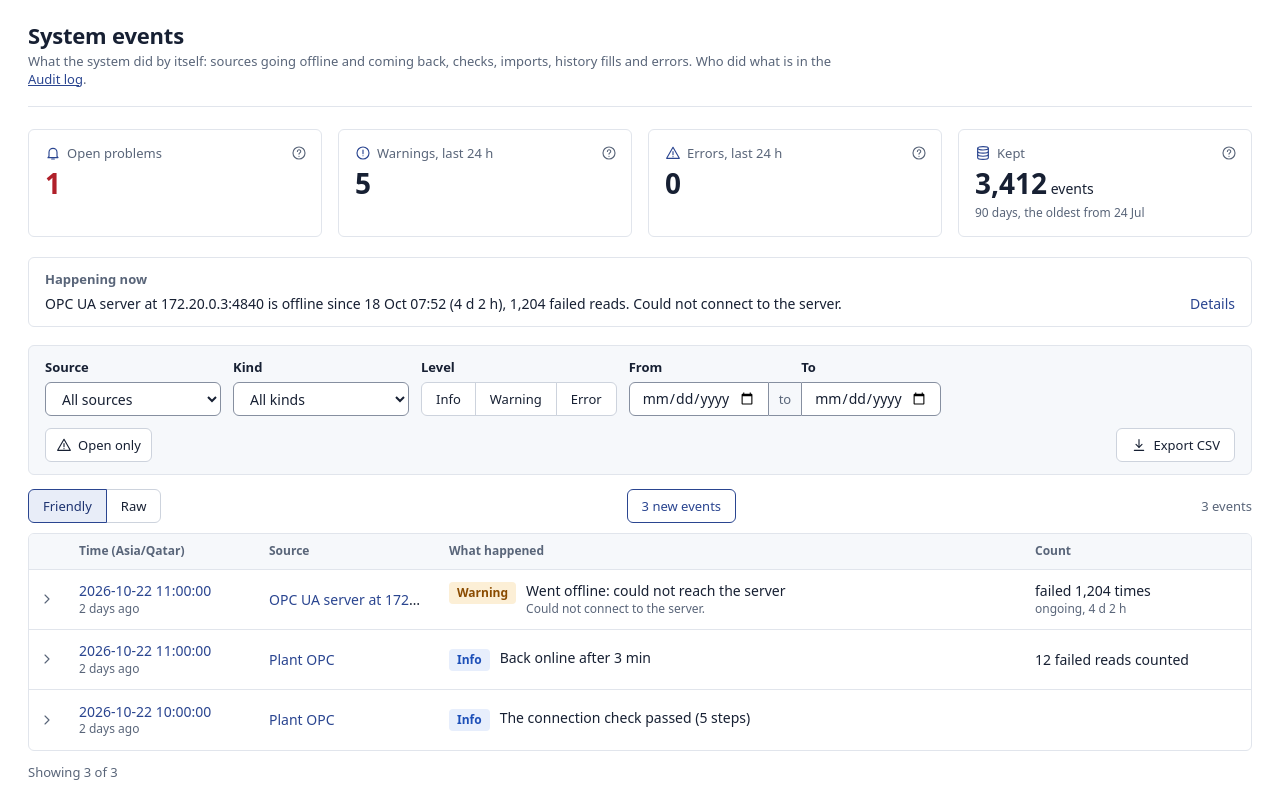
EventsPage: the calm refresh (w32) › shows '3 new events' as a button and does not push the rows; the button reads the list again, goes, and puts focus on the first row
Expected: the row "OPC UA server" is shown, [29,570,1251,630]
Click the button "3 new events": click(681, 506) [627,489,736,523]
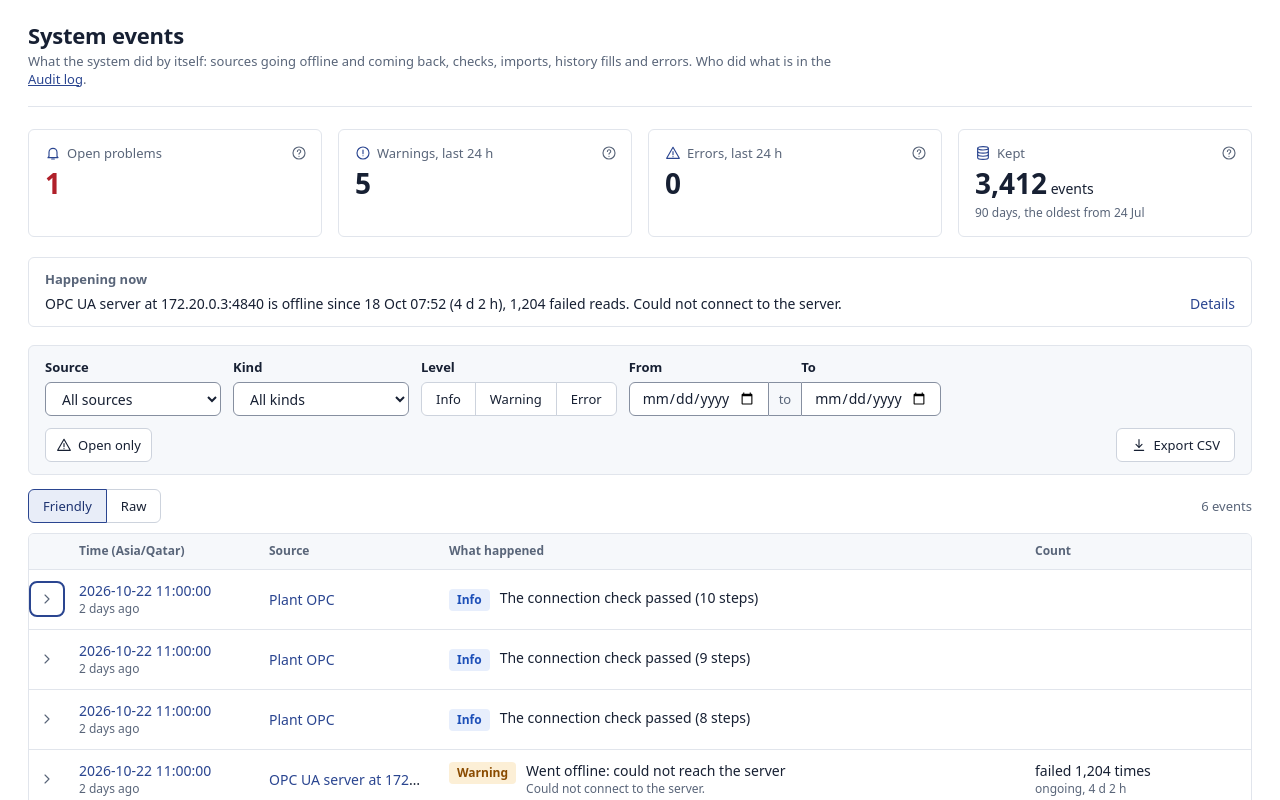
Now the button "new event" is gone
